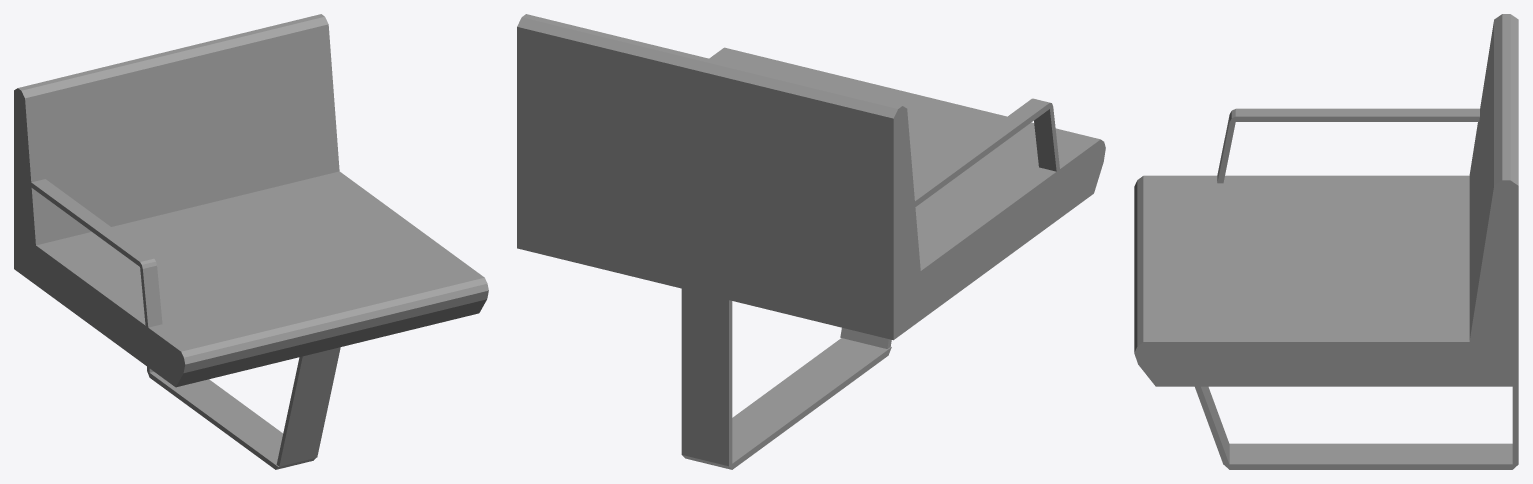
The model's file is nyc_subway_bench_3c.obj.
The picture shows the model from 3 angles, left to right: view 1: azimuth 30°, elevation 25°; view 2: azimuth 150°, elevation 25°; view 3: azimuth 270°, elevation 25°; orthographic projection. The views are drawn at different scales.
Parts seen in each view (by area): view 1: cube; view 2: cube; view 3: cube.
Boxes of the visible parts, x1,y1,x2,y2 form: cube: [14, 14, 488, 469]; cube: [517, 14, 1105, 469]; cube: [1134, 14, 1518, 469].
Bounding box in the file's own units: 1 × 1.02 × 0.9766.
1 material, 1 textured.
